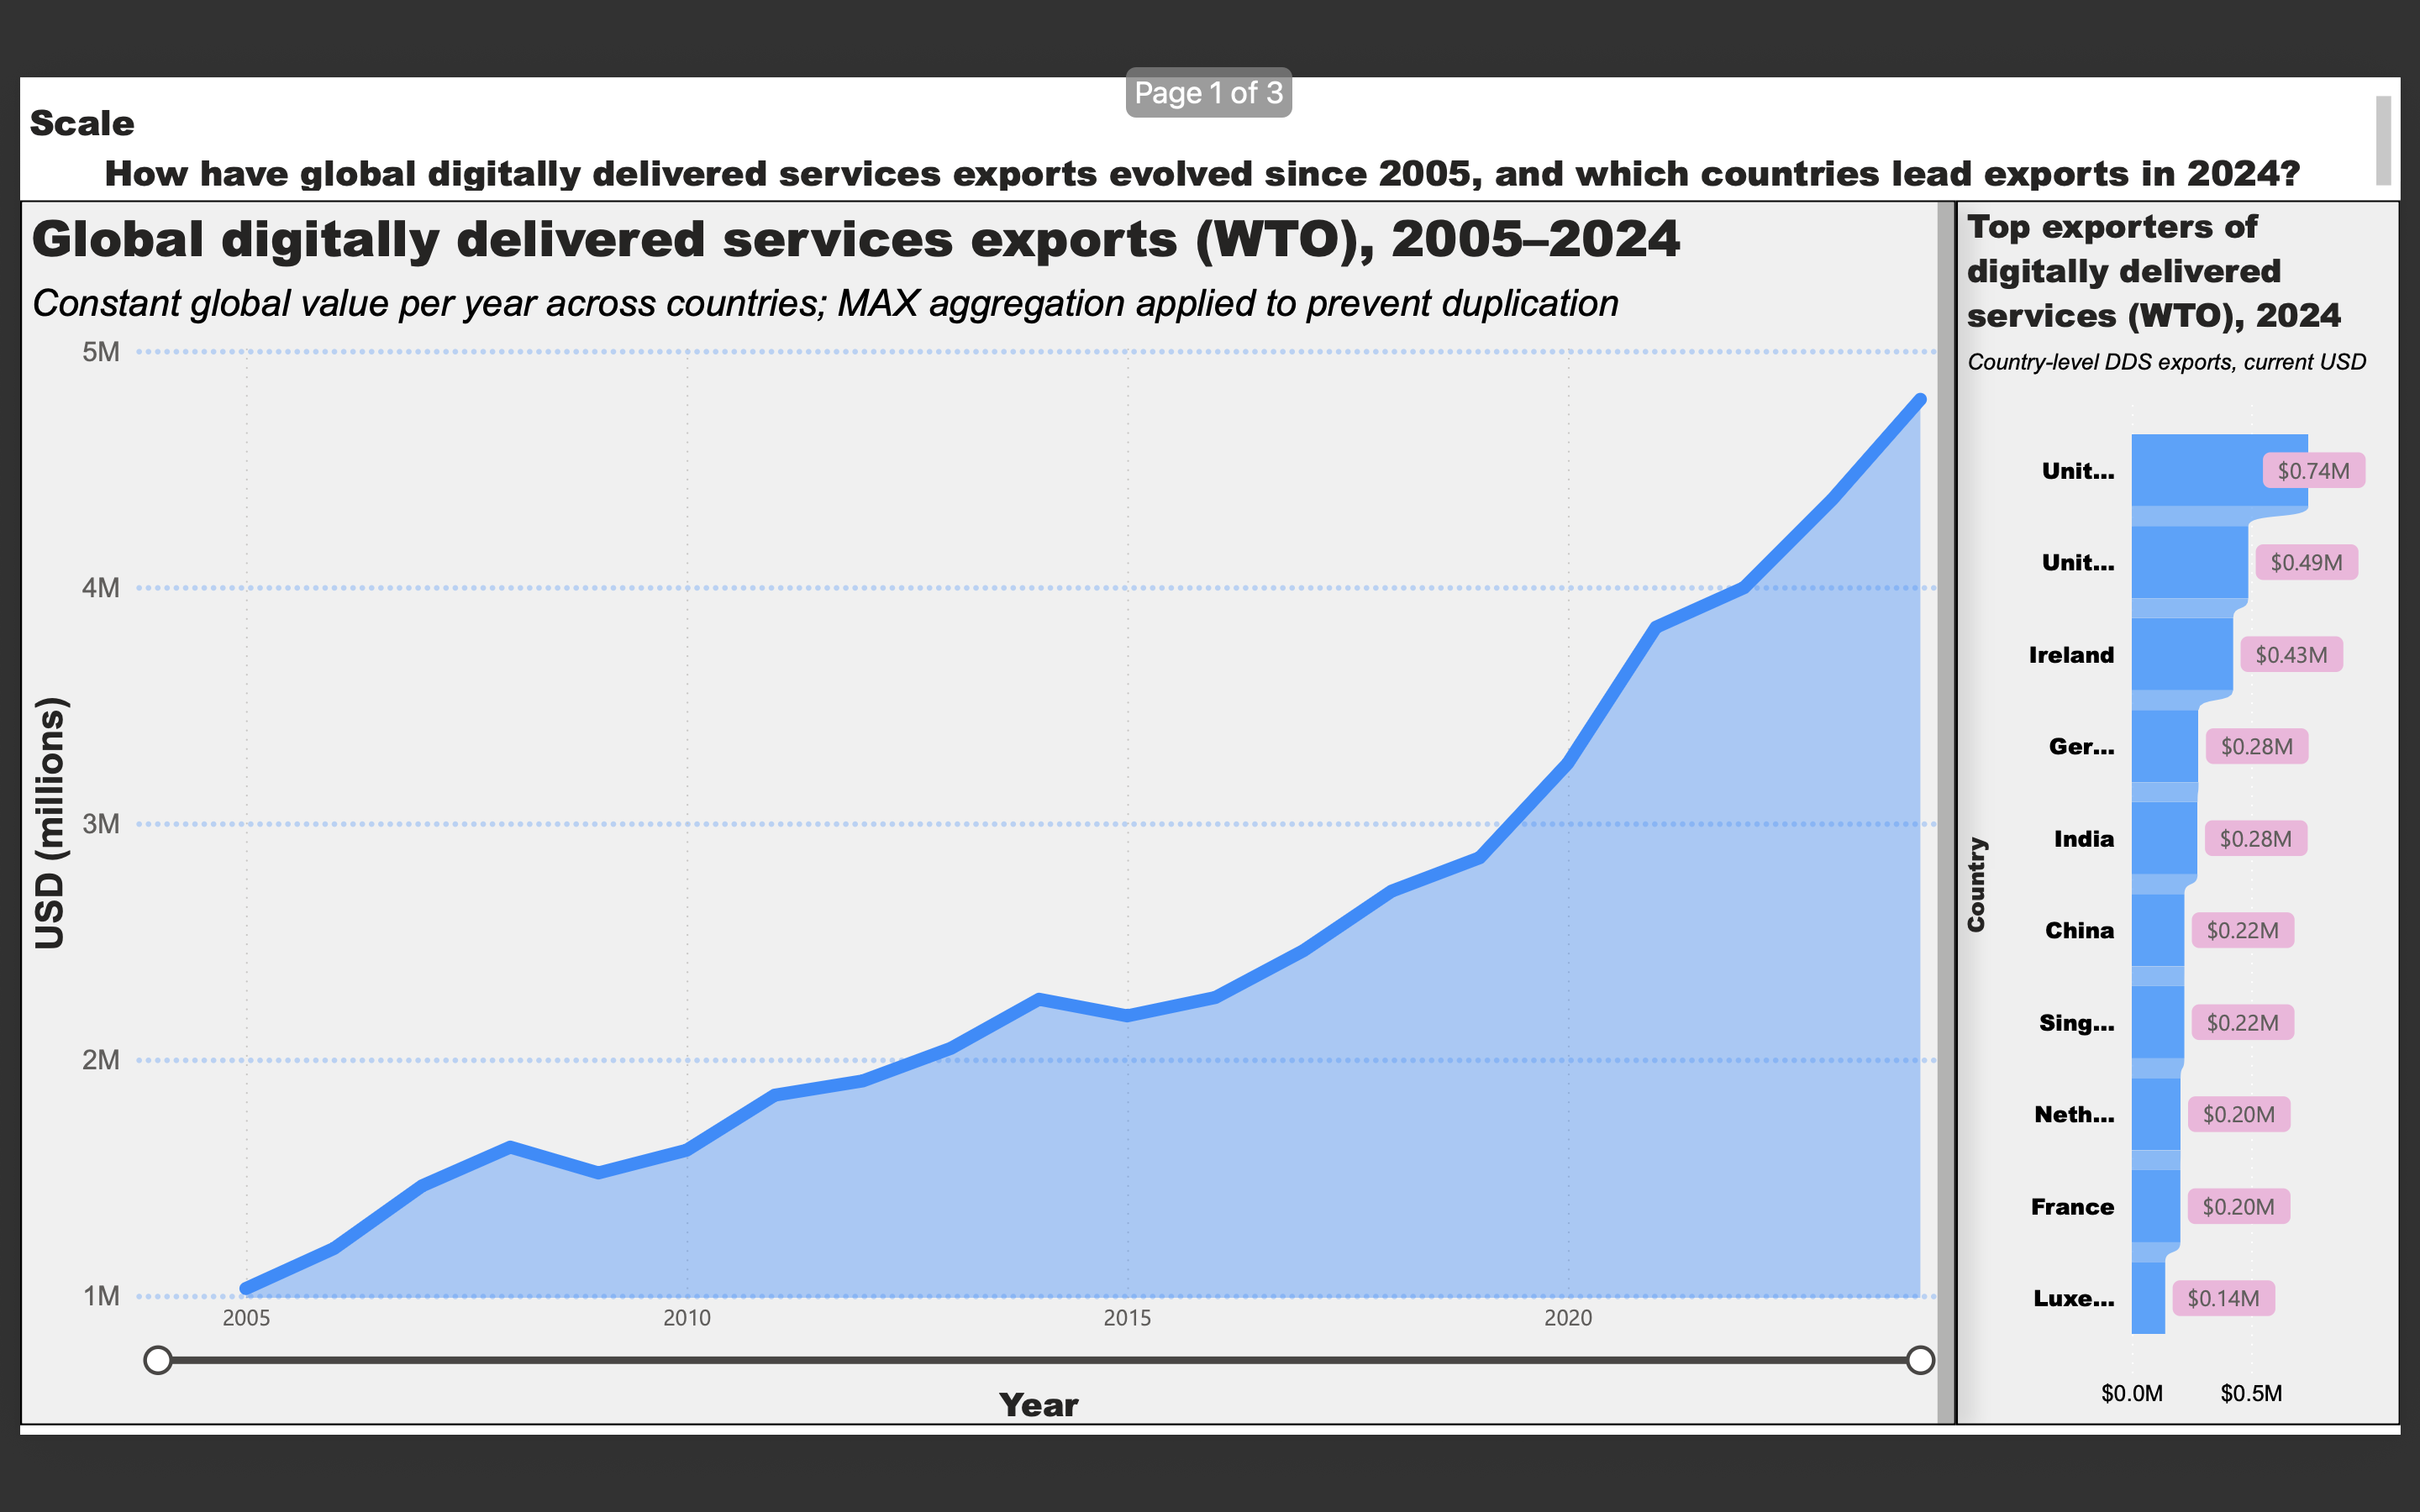

The page's visual inventory and layout, read from the dashboard file:
{"tool":"powerbi","page":{"name":"Page 1","canvas":[1280,720],"ordinal":0},"visuals":[{"type":"lineChart","title":"Global digitally delivered services exports (WTO), 2005–2024","fields":{"Category":["dds_bi_country_year_final 1.year"],"Y":["Max(dds_bi_country_year_final 1.global_dds_exports_usd_million)"]},"box":[0,61.4,1040.8,658.6],"z":0},{"type":"barChart","title":"Top exporters of digitally delivered services (WTO), 2024","fields":{"Category":["dds_bi_country_year_final 1.country"],"Y":["Sum(dds_bi_country_year_final 1.exports_digital_services_usd_million)"]},"box":[1040.8,61.4,239.3,658.6],"z":1},{"type":"textbox","box":[0,0,1280.1,61.4],"z":2}]}

Visuals, with their boxes on the page's 1280x720 design canvas (x1, y1, x2, y2). These are canvas units, not pixel positions in the 2420x1512 screenshot, which may show the page scaled, cropped or inside an application window:
"Global digitally delivered services exports (WTO), 2005–2024" lineChart: (x1=0, y1=61, x2=1041, y2=720)
"Top exporters of digitally delivered services (WTO), 2024" barChart: (x1=1041, y1=61, x2=1280, y2=720)
textbox: (x1=0, y1=0, x2=1280, y2=61)
